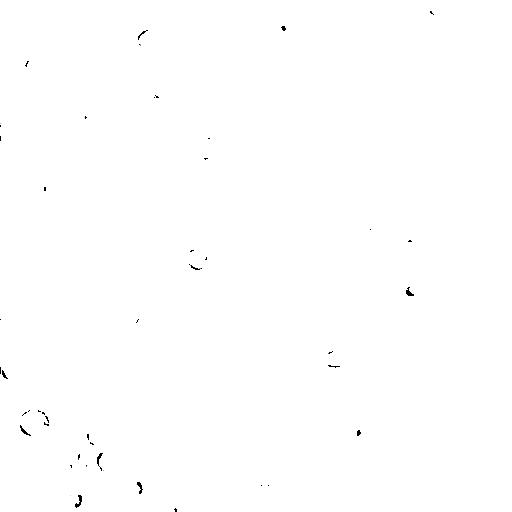micro-algae: (309, 263, 375, 328), (0, 94, 57, 164), (196, 357, 247, 409), (356, 131, 400, 175), (67, 92, 102, 133), (57, 441, 89, 481), (263, 7, 296, 43), (337, 413, 373, 446), (394, 227, 427, 261), (395, 275, 432, 303), (179, 55, 209, 85), (19, 406, 49, 435), (417, 0, 450, 24), (283, 54, 311, 82), (205, 464, 233, 491), (45, 41, 77, 64), (405, 303, 428, 335), (135, 24, 162, 51), (188, 109, 213, 137), (195, 135, 223, 159), (255, 123, 283, 147), (0, 114, 23, 143), (85, 423, 112, 447), (255, 463, 281, 487), (355, 226, 381, 249), (348, 84, 373, 107), (378, 398, 403, 421), (62, 83, 89, 104), (99, 41, 122, 65), (186, 245, 208, 269), (298, 342, 320, 365), (61, 489, 85, 509), (325, 348, 347, 369), (31, 173, 50, 197), (371, 310, 391, 331), (123, 478, 145, 497), (183, 296, 199, 321), (77, 448, 95, 469), (172, 497, 197, 512), (97, 451, 113, 474), (2, 358, 19, 377), (126, 305, 141, 326), (42, 0, 64, 13), (25, 57, 39, 73)
